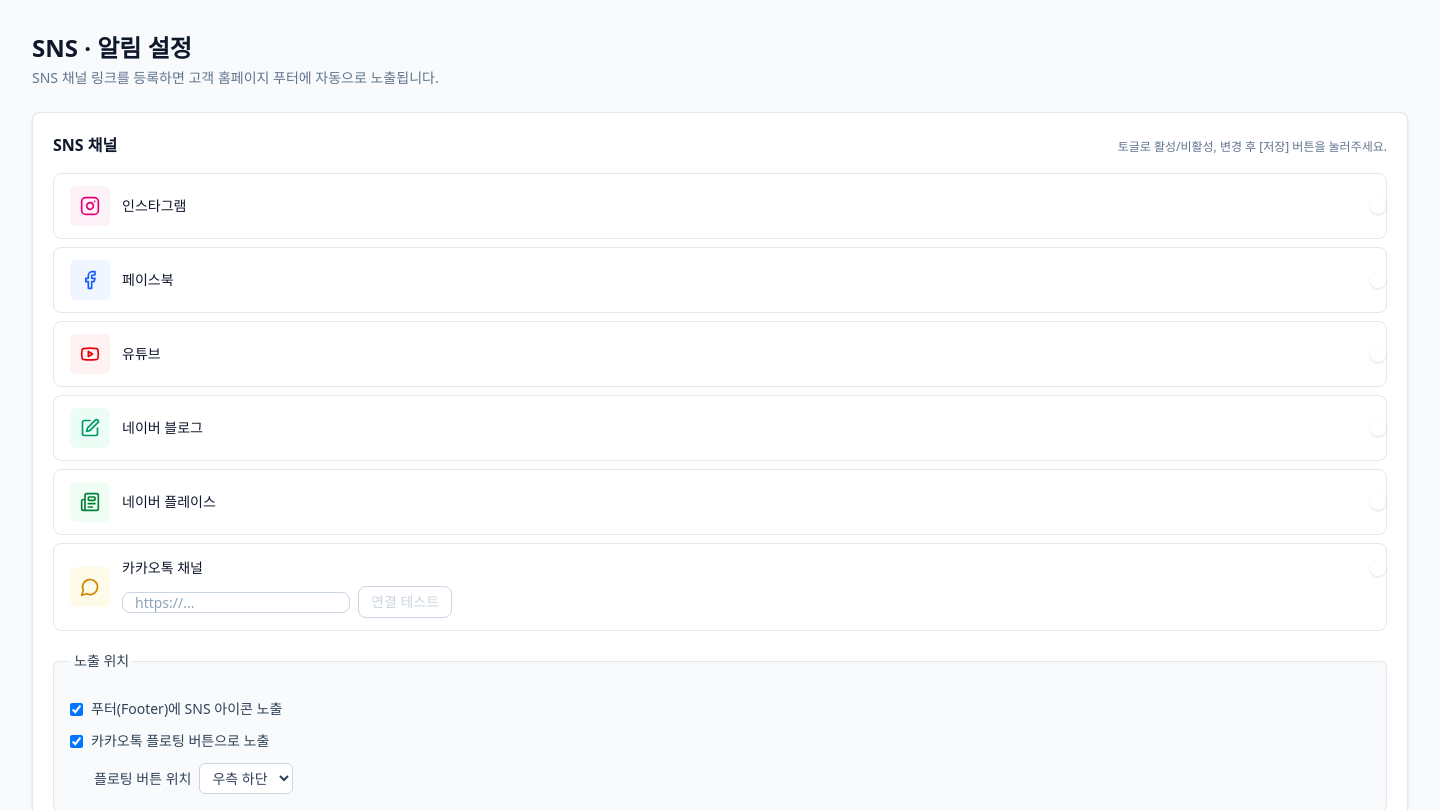
SNS 노출 위치 › 플로팅을 끄면 위치 선택이 잠긴다
Click the checkbox labelled "카카오톡 플로팅 버튼으로 노출". click: (76, 741)
box: 70,734 -> 83,748
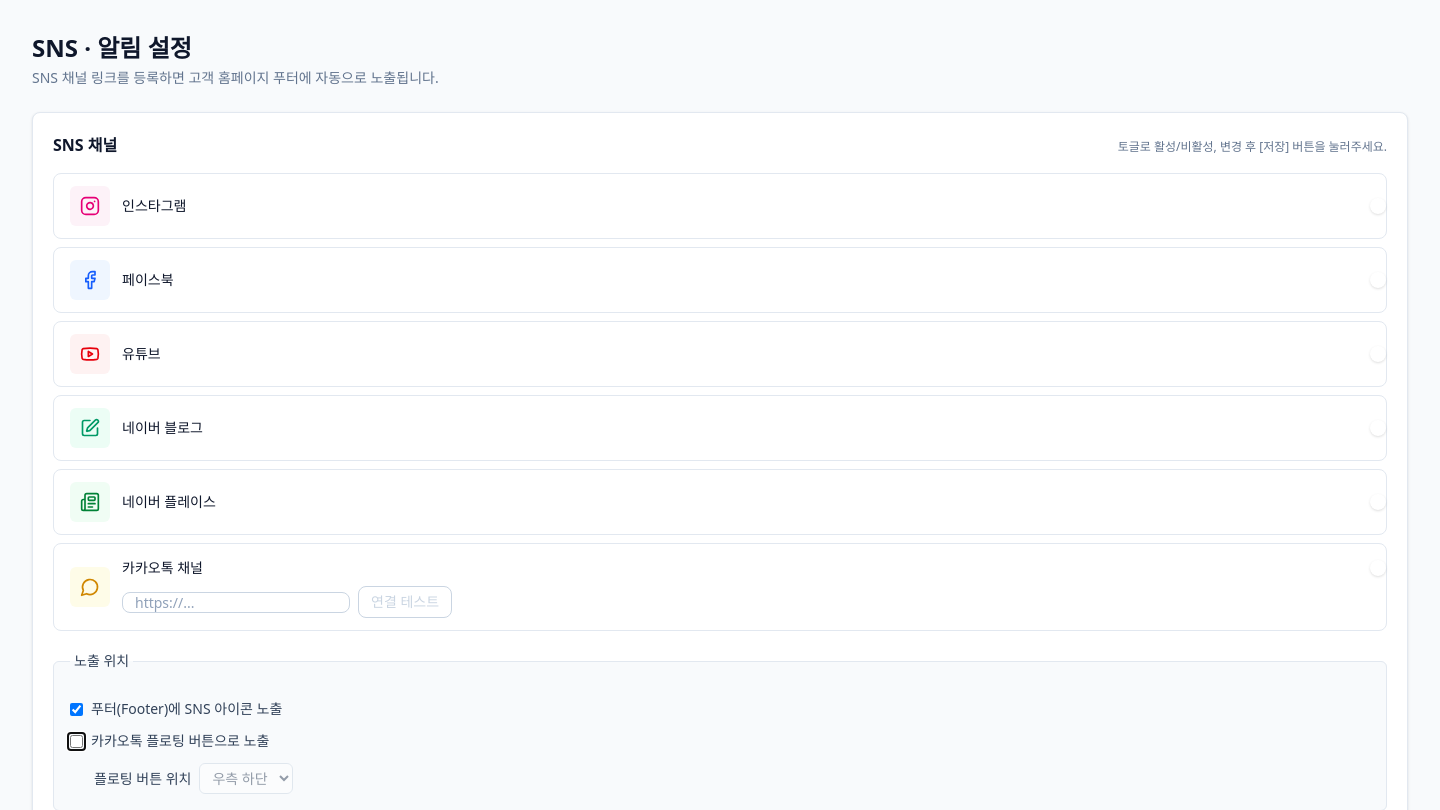
Expected: the dropdown labelled "플로팅 버튼 위치" is disabled, 200,763 -> 294,794
